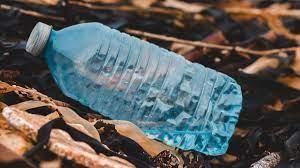paper: (11, 0, 252, 166)
